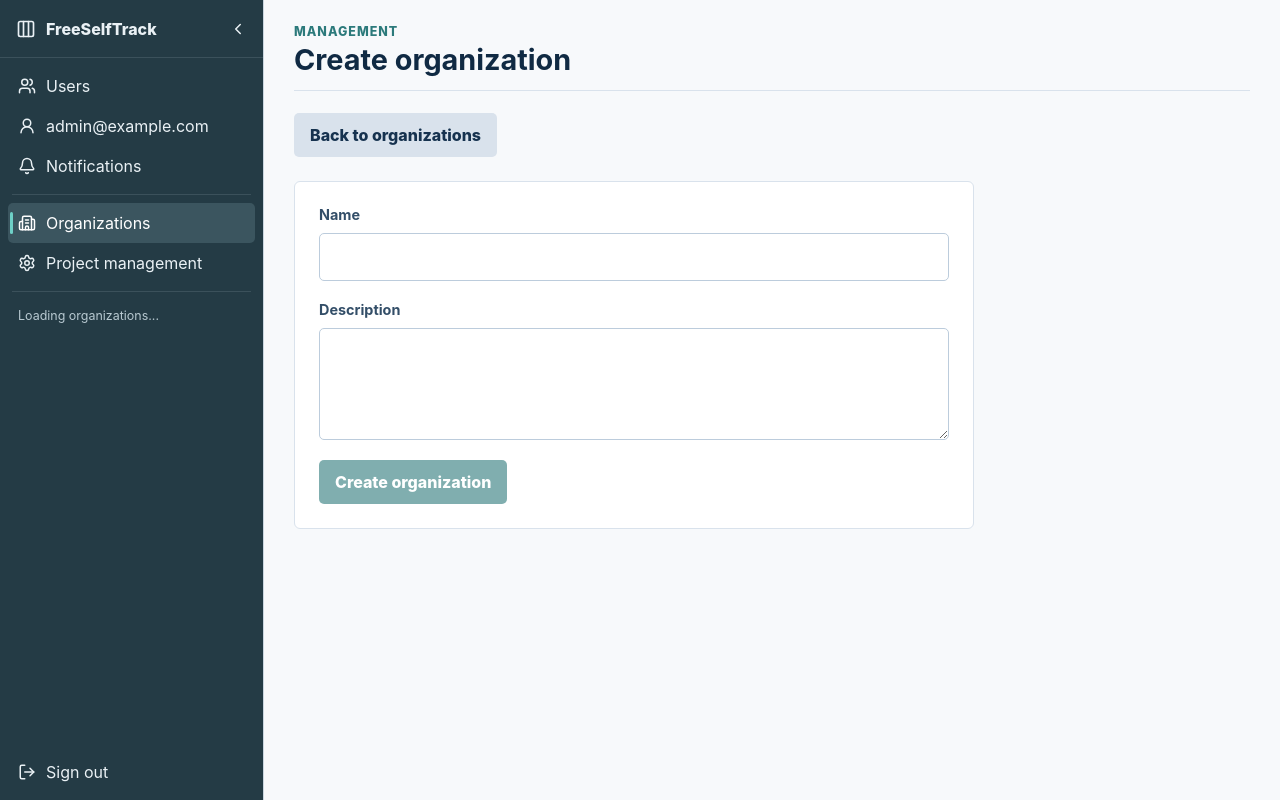
Test: preserves failed creation input and prevents duplicate requests while pending
The image size is (1280, 800).
Type "New organization" into the field labelled "Name".
click(634, 257); type("New organization")  # box [319, 233, 949, 281]
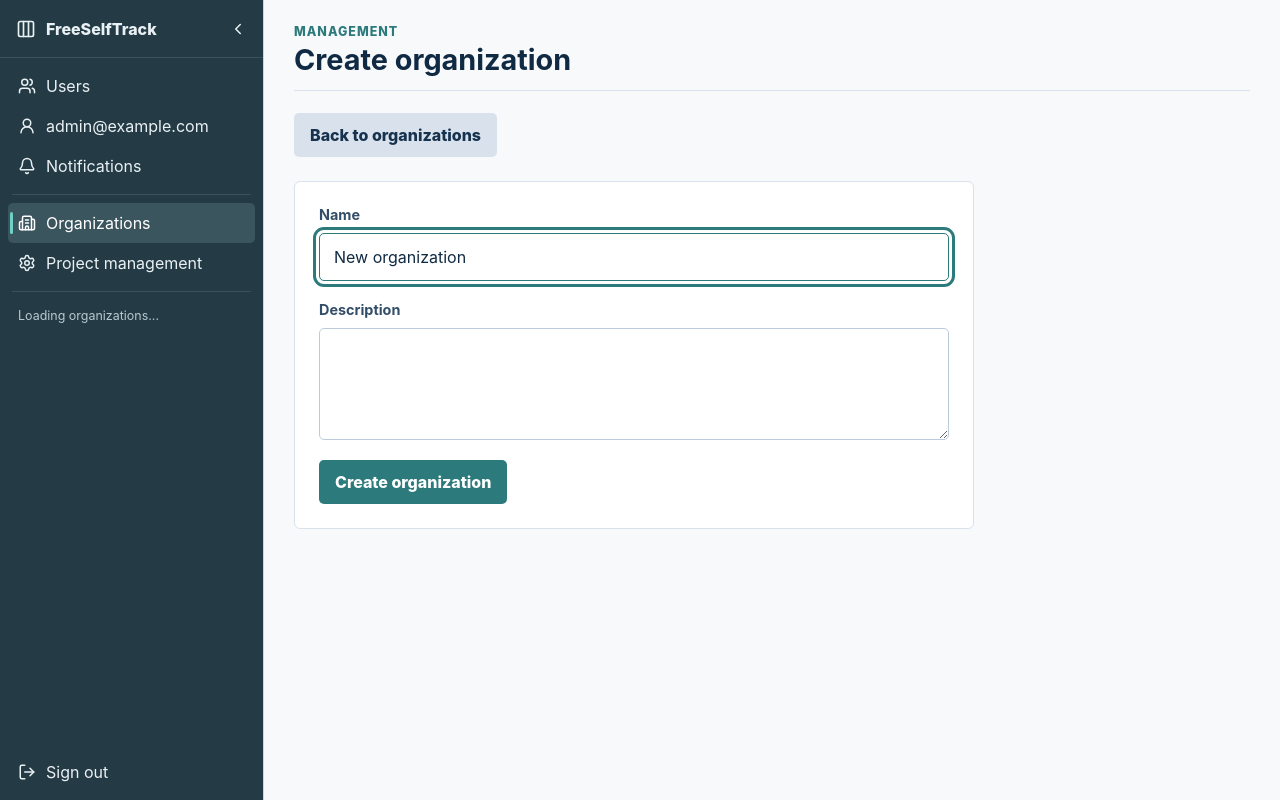
Click the button "Create organization".
click(413, 482)  # box [319, 460, 507, 504]
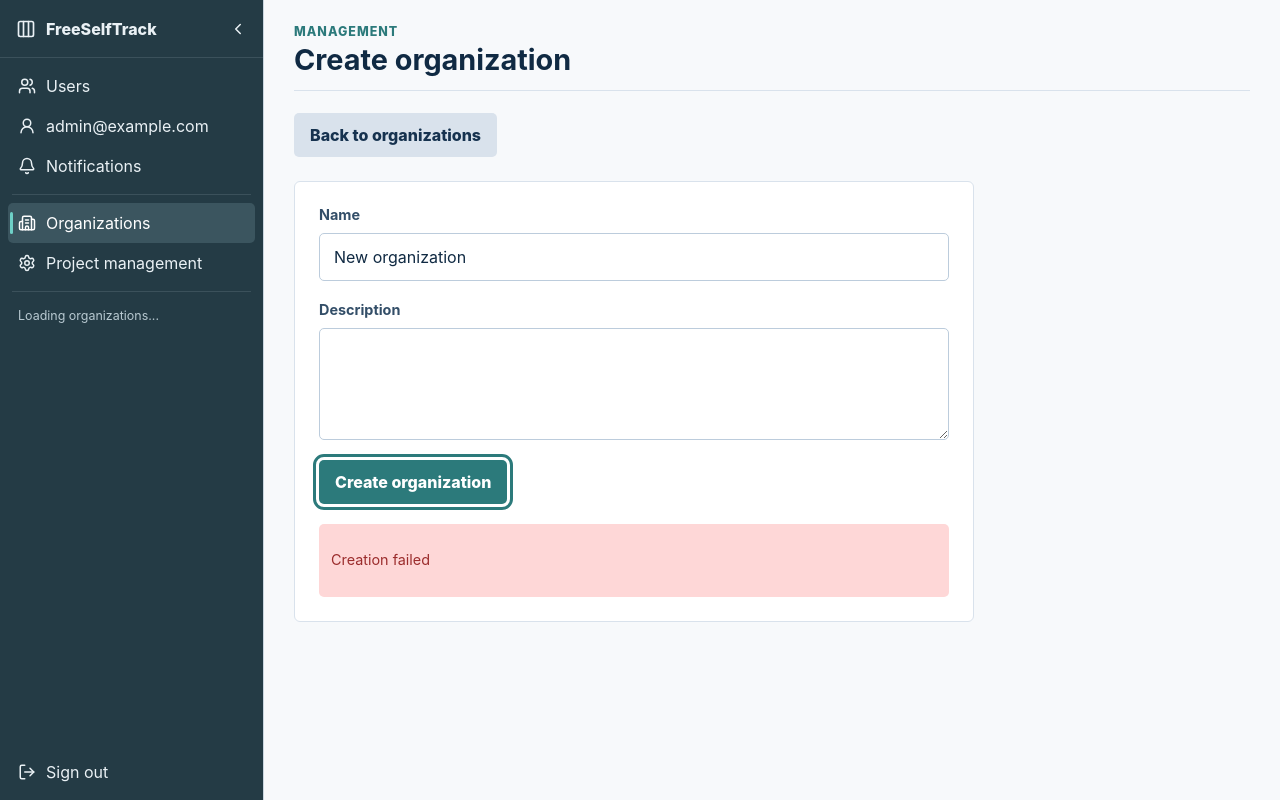
Check: the message reads "Creation failed", box [331, 552, 430, 568]
Double-click the button "Create organization".
double_click(413, 482)  # box [319, 460, 507, 504]
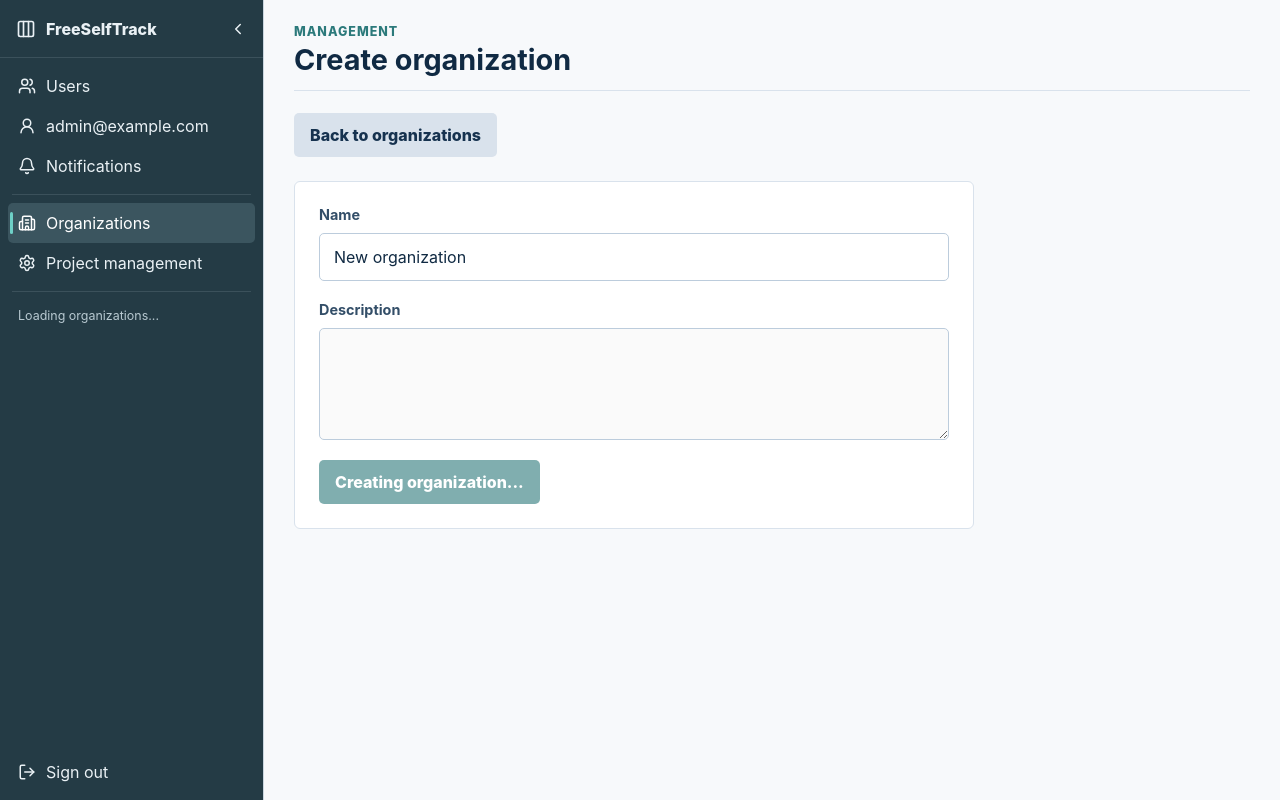
Check: the button "Creating organization..." is disabled, box [319, 460, 540, 504]
